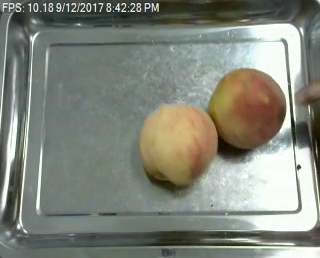Peach: (139, 102, 218, 186), (208, 67, 287, 150)
